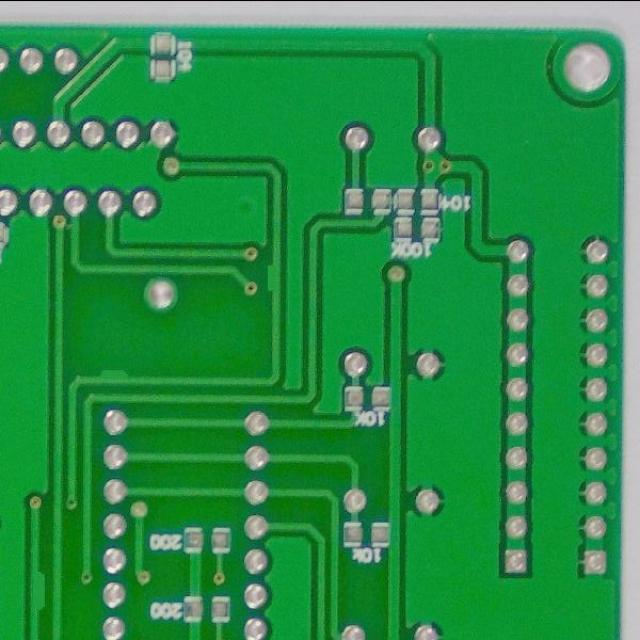Spur: (24, 565, 51, 618), (94, 364, 135, 390), (261, 258, 285, 298)
